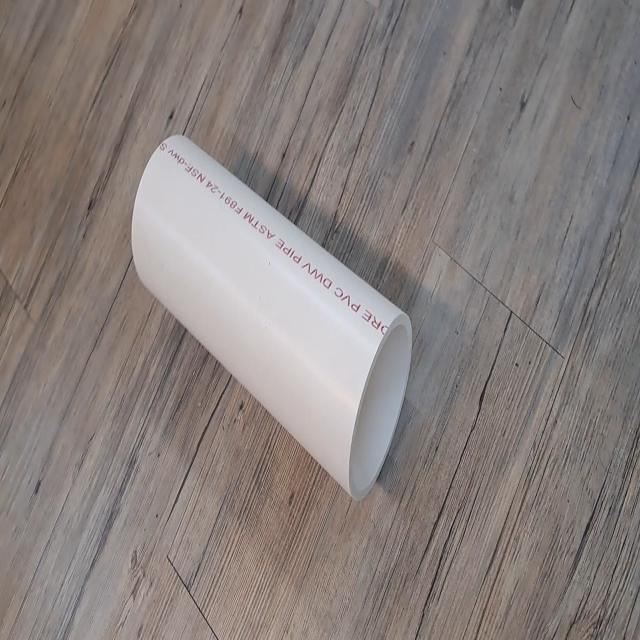CORAL: (122, 128, 418, 506)
